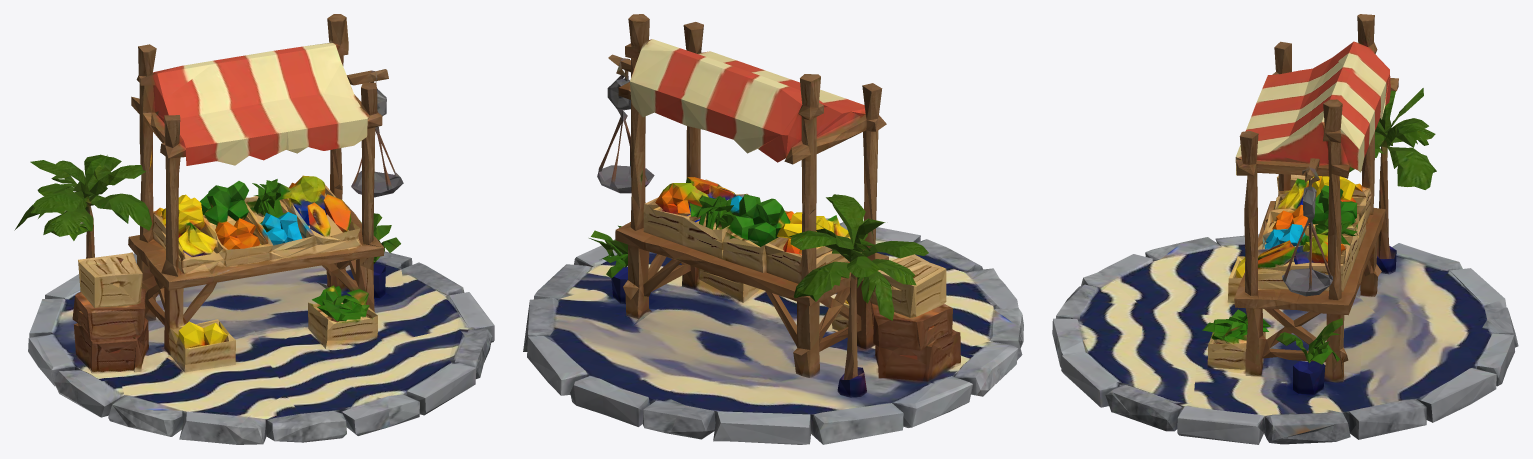
File: rio-feira-barraca.glb
The picture shows the model from 3 angles, left to right: view 1: azimuth 30°, elevation 25°; view 2: azimuth 150°, elevation 25°; view 3: azimuth 270°, elevation 25°; orthographic projection. The views are drawn at different scales.
Parts seen in each view (by area): view 1: tripo_node_3db3513f-3cbf-4dbd-aee9-0561a8d2d1cb; view 2: tripo_node_3db3513f-3cbf-4dbd-aee9-0561a8d2d1cb; view 3: tripo_node_3db3513f-3cbf-4dbd-aee9-0561a8d2d1cb.
Boxes of the visible parts, box(x1,y1,x2,y2) form: tripo_node_3db3513f-3cbf-4dbd-aee9-0561a8d2d1cb: box(14, 14, 494, 444); tripo_node_3db3513f-3cbf-4dbd-aee9-0561a8d2d1cb: box(523, 14, 1023, 444); tripo_node_3db3513f-3cbf-4dbd-aee9-0561a8d2d1cb: box(1052, 14, 1518, 444).
Size of the model in its own units: 0.999 by 0.6948 by 0.9988.
Materials: 1 (1 with a texture image).
